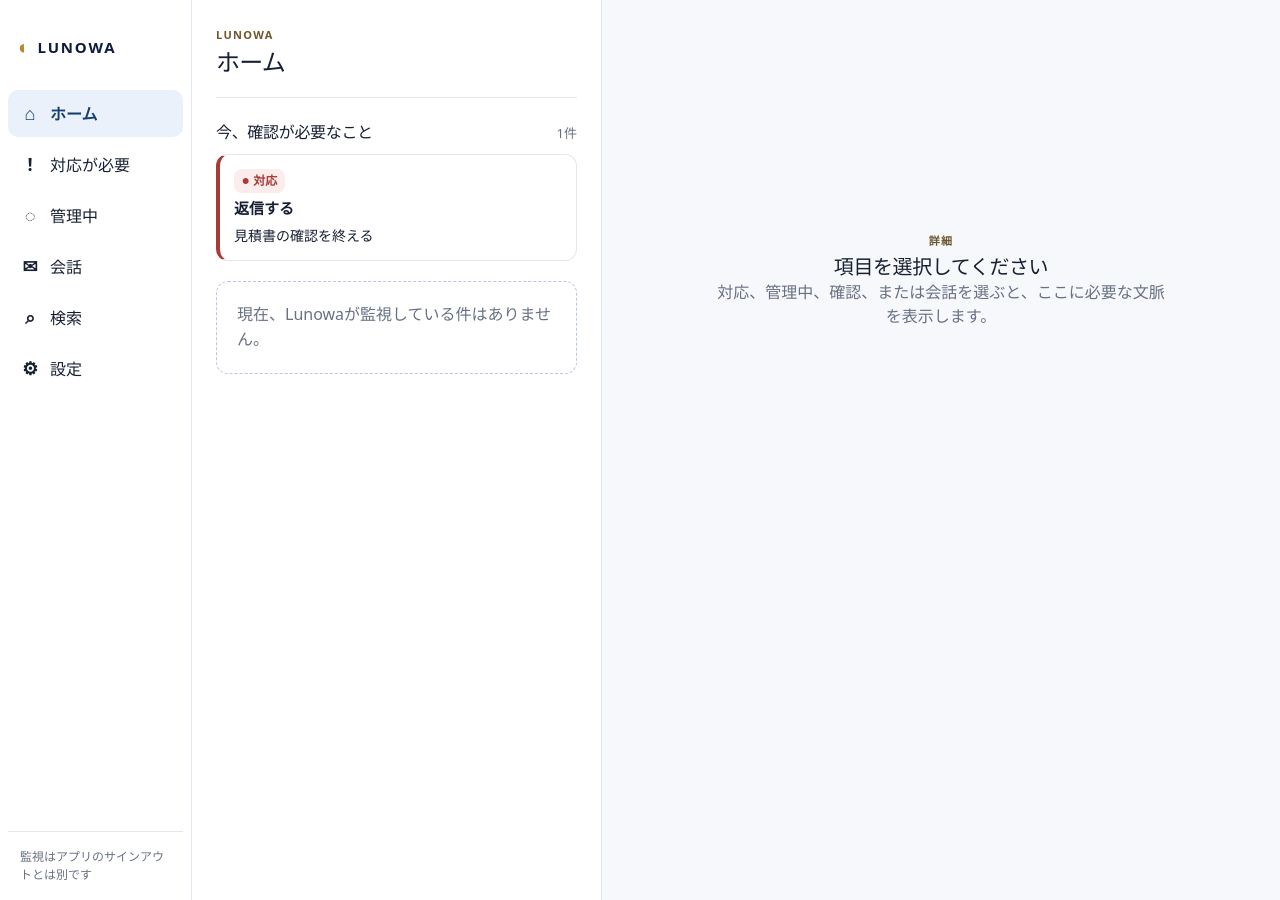
Scenario: G40 live attention surfaces › renders accepted attention state instead of the shell fixture and routes it to Moment
Click the button "対応 返信する 見積書の確認を終える" at (260, 181), box [216, 154, 577, 261]
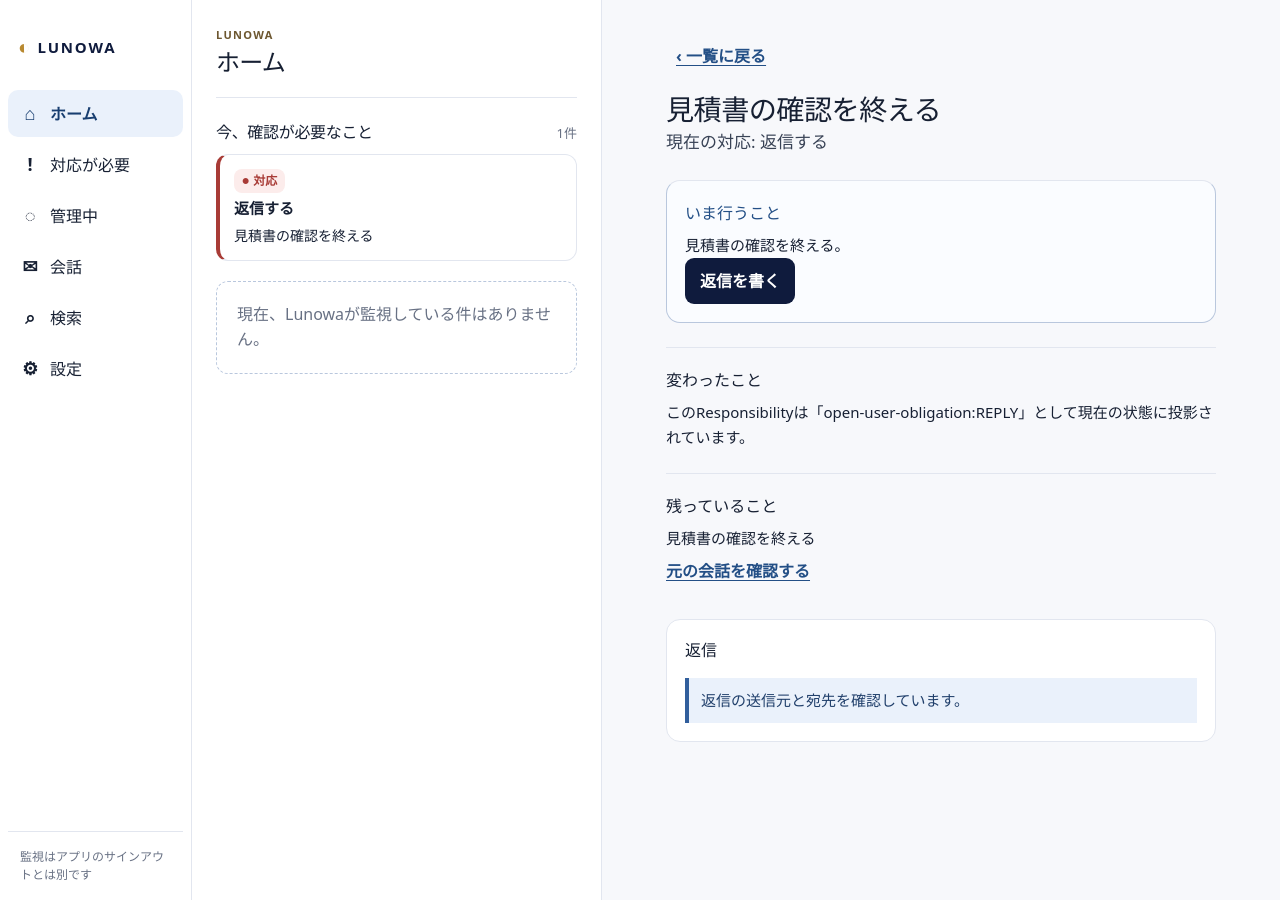
Expected: the heading "見積書の確認を終える" is shown, [666, 90, 941, 128]
